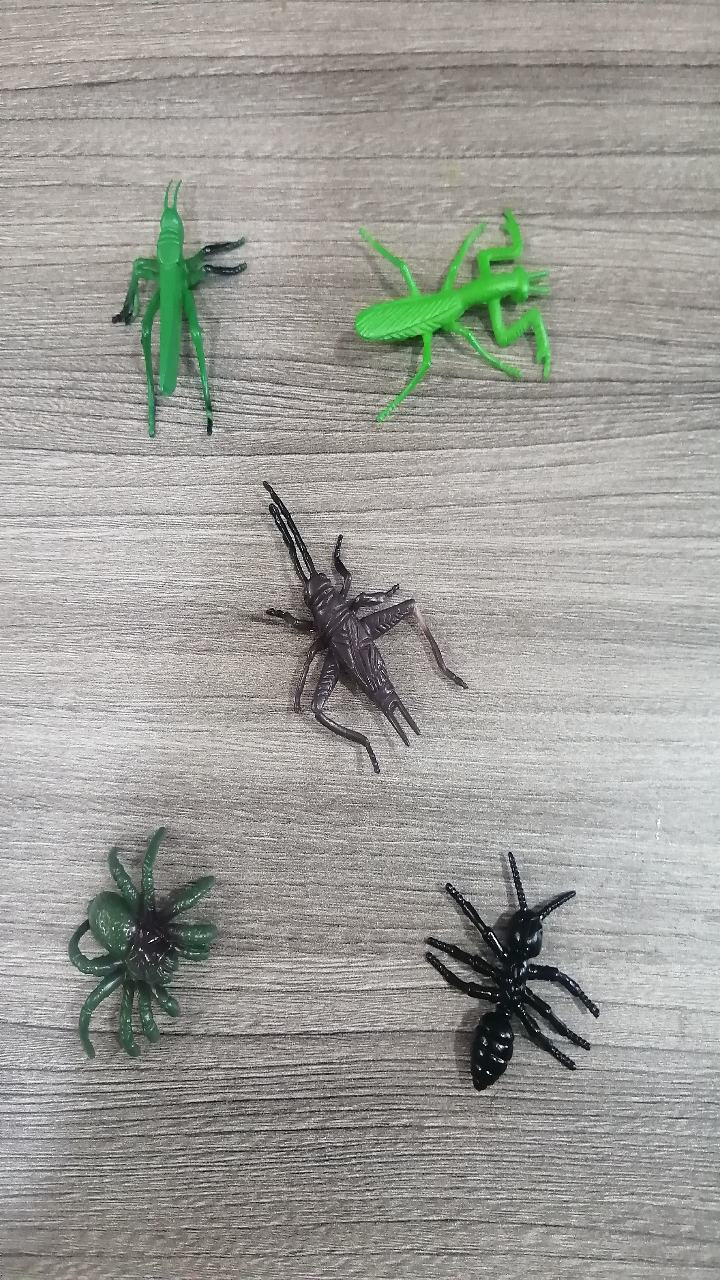intruso: (217, 457, 481, 768), (318, 185, 591, 425), (397, 828, 611, 1106), (69, 172, 263, 466), (34, 814, 249, 1071)
